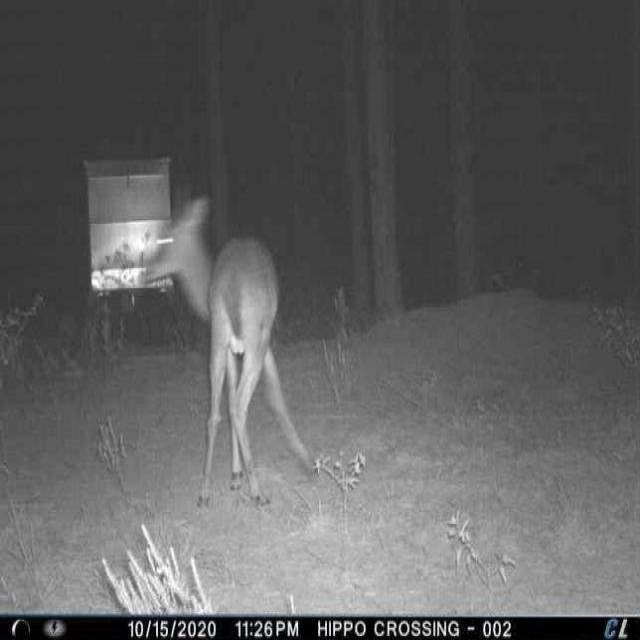deer: (146, 193, 323, 511)
